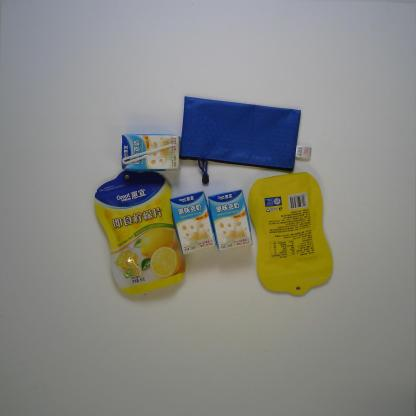Dried Fruit: (91, 166, 187, 296), (249, 170, 336, 297)
Milk: (170, 190, 218, 257), (206, 188, 254, 253), (120, 130, 182, 175)
Stationery: (175, 94, 315, 188)
